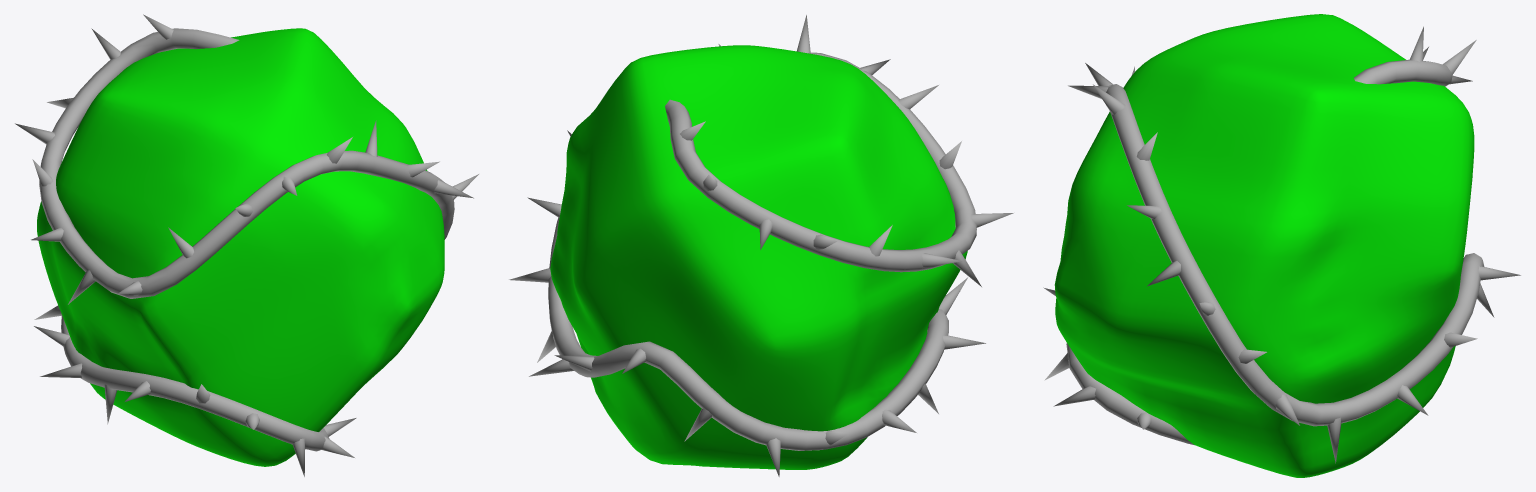
The model's file is Stone3Vined.fbx.
3 renders of one model, left to right at view 1: azimuth 30°, elevation 25°; view 2: azimuth 150°, elevation 25°; view 3: azimuth 270°, elevation 25°, orthographic. The views are drawn at different scales.
Parts seen in each view (by area): view 1: Stone3Vined; view 2: Stone3Vined; view 3: Stone3Vined.
Boxes of the visible parts, box(x1,y1,x2,y2) form: Stone3Vined: box(15, 14, 478, 476); Stone3Vined: box(509, 15, 1013, 476); Stone3Vined: box(1043, 14, 1520, 477).
Bounding box in the file's own units: 196 × 161 × 178.
